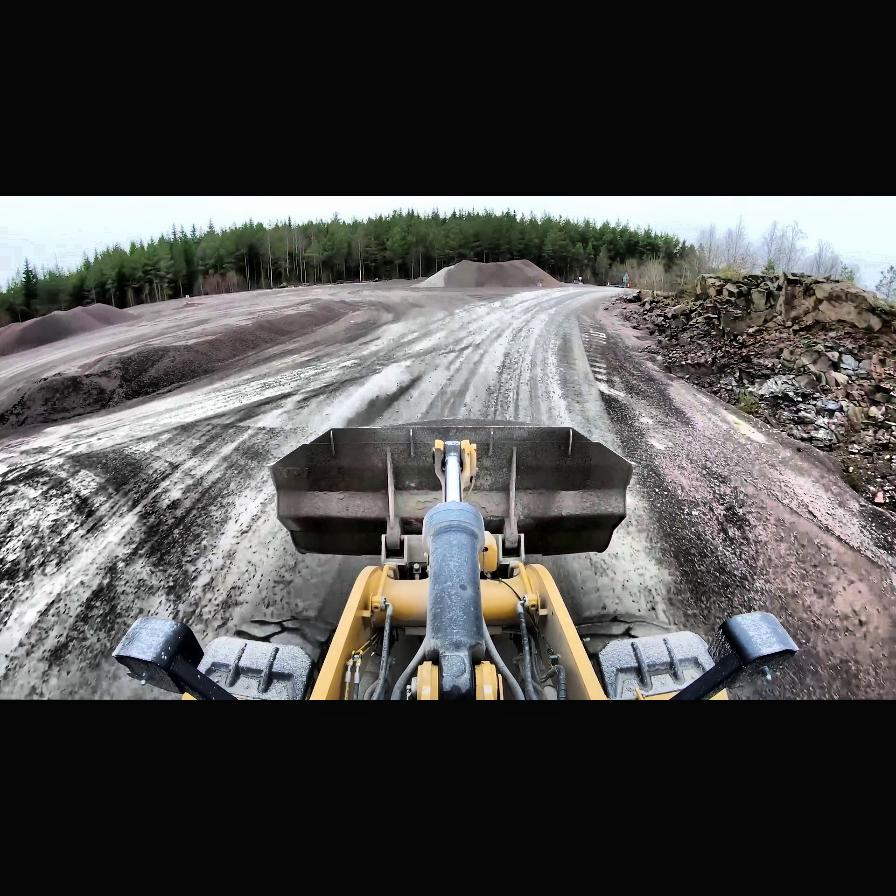anchor: (432, 437, 478, 501)
pile of gravel: (0, 296, 360, 438), (1, 304, 134, 362), (2, 370, 126, 430), (420, 260, 560, 290), (78, 303, 134, 327), (174, 298, 200, 308)
